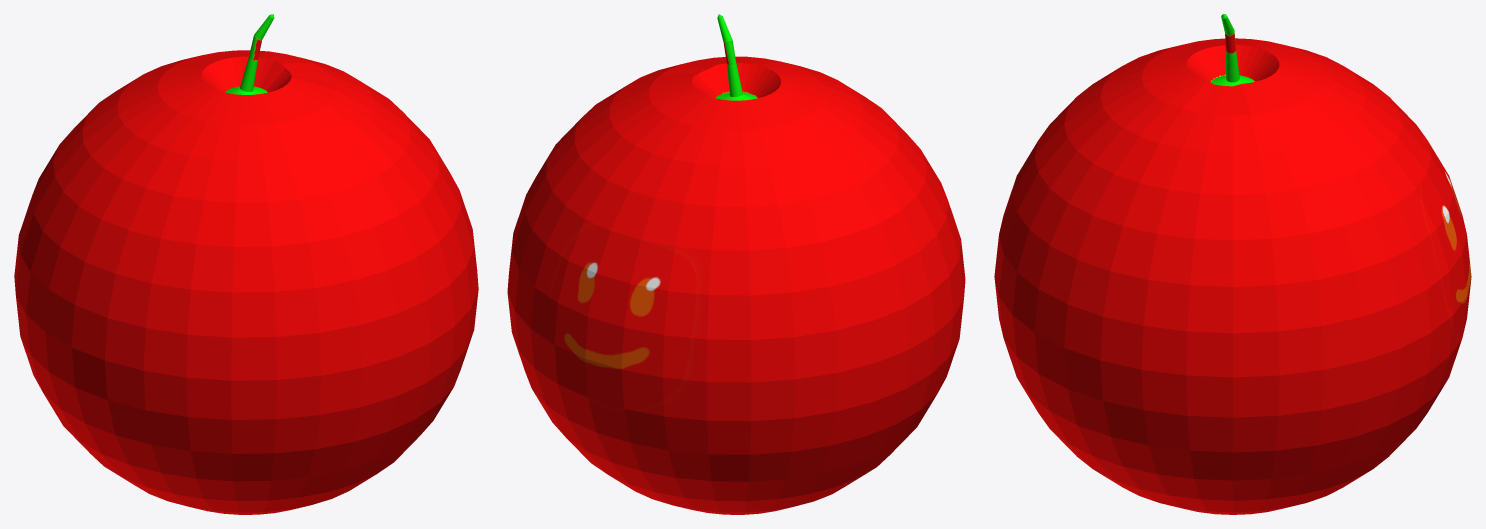
The model's file is tomato.glb.
3 views of the same model, side by side, from view 1: azimuth 30°, elevation 25°; view 2: azimuth 150°, elevation 25°; view 3: azimuth 270°, elevation 25° (orthographic). The views are drawn at different scales.
Parts seen in each view (by area): view 1: Sphere; view 2: Sphere; view 3: Sphere.
Part boxes in pixels (box(x1,y1,x2,y2)): Sphere: box(14, 14, 478, 514); Sphere: box(507, 14, 965, 514); Sphere: box(994, 14, 1471, 514).
Size of the model in its own units: 2 by 2.26 by 2.
Materials: 1 (1 with a texture image).
